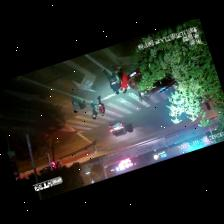person: (103, 64, 120, 93), (116, 66, 127, 91), (72, 99, 87, 111), (89, 100, 98, 118), (98, 95, 105, 114)
